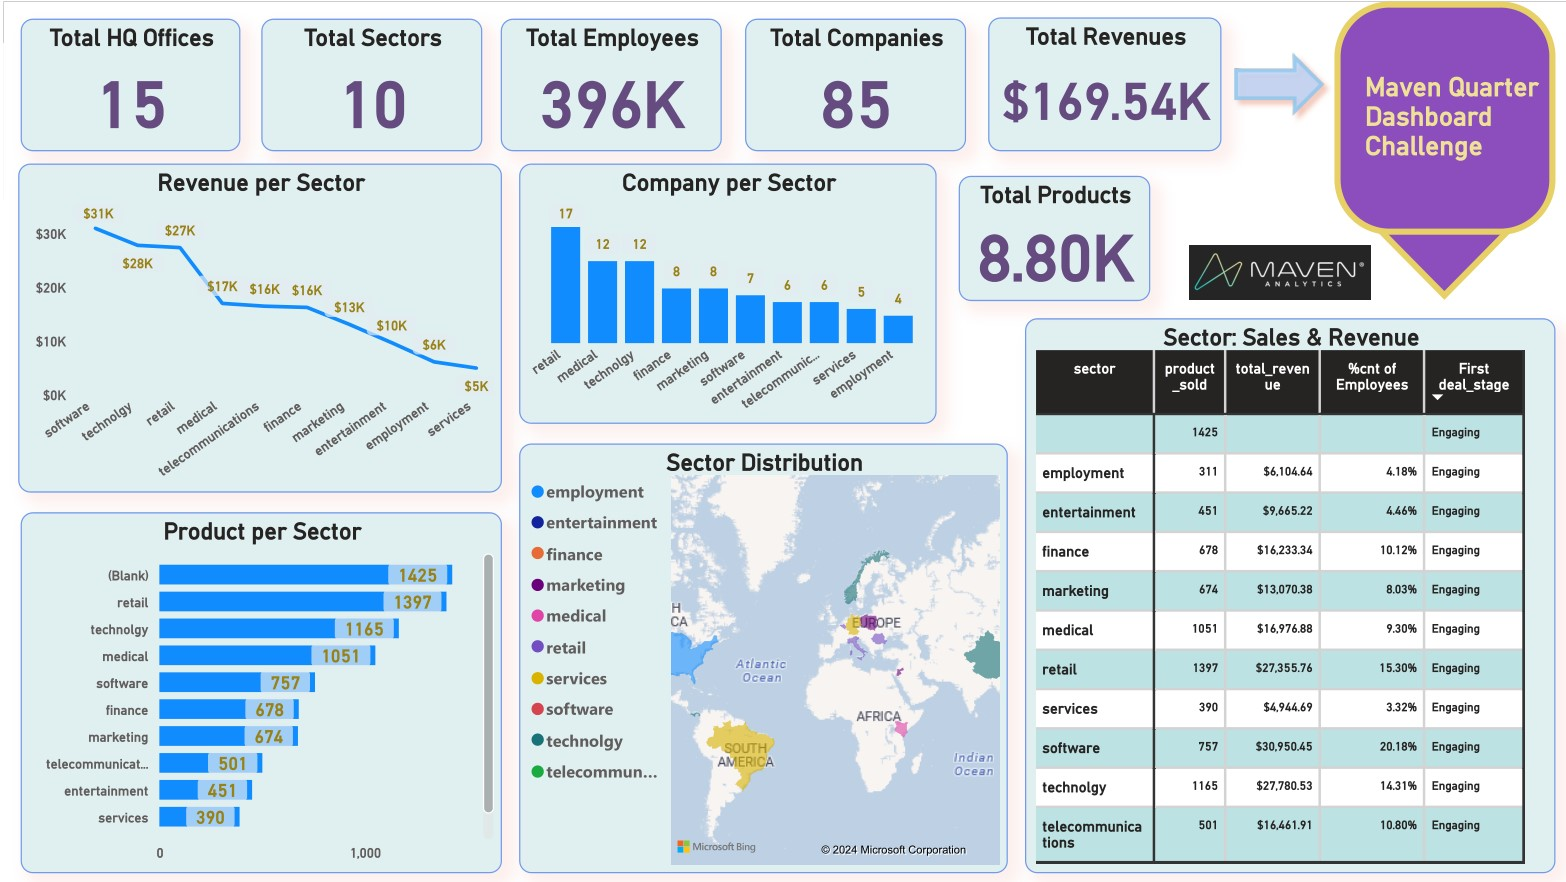

The page's visual inventory and layout, read from the dashboard file:
{"tool":"powerbi","page":{"name":"Target Sector","canvas":[1280,720],"ordinal":0},"visuals":[{"type":"card","title":"Total HQ Offices","fields":{"Values":["Count(accounts.office_location)"]},"box":[13.5,13.5,179.5,108.1],"z":0},{"type":"card","title":"Total Sectors","fields":{"Values":["Count(accounts.sector)"]},"box":[210.4,13.5,179.5,108.1],"z":1000},{"type":"card","title":"Total Employees","fields":{"Values":["Sum(accounts.employees)"]},"box":[405.3,13.5,179.5,108.1],"z":2000},{"type":"card","title":"Total Companies","fields":{"Values":["Count(accounts.account)"]},"box":[604.2,13.5,179.5,108.1],"z":3000},{"type":"shape","box":[1104.1,38.6,139,204.6],"z":4000},{"type":"shape","box":[1084,0,180,190],"z":5000},{"type":"textbox","box":[1104,52,160,106],"z":6000},{"type":"lineChart","title":"Revenue per Sector","fields":{"Category":["accounts.sector"],"Y":["Sum(accounts.revenue)"]},"box":[12,132,394,268],"z":7000},{"type":"barChart","title":"Product per Sector","fields":{"Category":["accounts.sector"],"Y":["CountNonNull(sales_pipeline.product)"]},"box":[14,416,392,294],"z":8000},{"type":"columnChart","title":"Company per Sector","fields":{"Category":["accounts.sector"],"Y":["Count(accounts.account)"]},"box":[420,132,340,212],"z":9000},{"type":"card","title":"Total Revenues","fields":{"Values":["Sum(accounts.revenue)"]},"box":[801.7,13.3,190,108.3],"z":10000},{"type":"pivotTable","title":"Sector: Sales & Revenue","fields":{"Rows":["accounts.sector"],"Values":["CountNonNull(sales_pipeline.opportunity_id)","Sum(accounts.revenue)","CountNonNull(accounts.employees)","Min(sales_pipeline.deal_stage)"]},"box":[832,258,432,452],"z":11000},{"type":"filledMap","title":"Sector Distribution","fields":{"Series":["accounts.sector"],"Category":["accounts.office_location"]},"box":[420,360,398,350],"z":12000},{"type":"actionButton","box":[994.1,32.8,90.7,69.5],"z":13000},{"type":"card","title":"Total Products","fields":{"Values":["Count(sales_pipeline.opportunity_id)"]},"box":[778,142,156,102],"z":14000},{"type":"image","box":[954,194,170,54],"z":15000}]}

Visuals, with their boxes in screenshot pixels (x1, y1, x2, y2), scaled from the page's 1280x720 canvas onto the 1566x882 screenshot:
"Total HQ Offices" card: bbox=(17, 17, 236, 149)
"Total Sectors" card: bbox=(257, 17, 477, 149)
"Total Employees" card: bbox=(496, 17, 715, 149)
"Total Companies" card: bbox=(739, 17, 959, 149)
shape: bbox=(1351, 47, 1521, 298)
shape: bbox=(1326, 0, 1546, 233)
textbox: bbox=(1351, 64, 1546, 194)
"Revenue per Sector" lineChart: bbox=(15, 162, 497, 490)
"Product per Sector" barChart: bbox=(17, 510, 497, 870)
"Company per Sector" columnChart: bbox=(514, 162, 930, 421)
"Total Revenues" card: bbox=(981, 16, 1213, 149)
"Sector: Sales & Revenue" pivotTable: bbox=(1018, 316, 1546, 870)
"Sector Distribution" filledMap: bbox=(514, 441, 1001, 870)
actionButton: bbox=(1216, 40, 1327, 125)
"Total Products" card: bbox=(952, 174, 1143, 299)
image: bbox=(1167, 238, 1375, 304)
